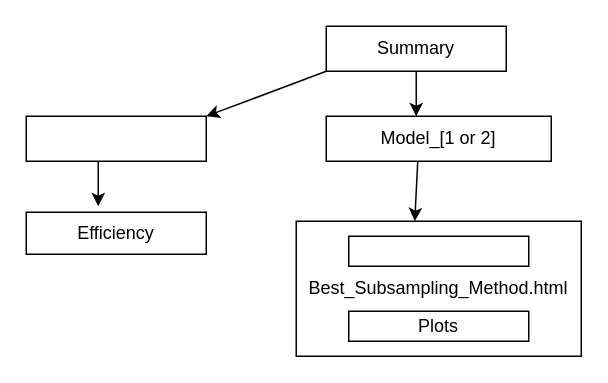
This 608x383 diagram has some shape labels left out. The shapes that lost their labels are listed below. From the top down, each one's centre as x and y in pixels, then its label:
At pixel 115 138: "Data".
At pixel 438 250: "Best_Subsampling".
